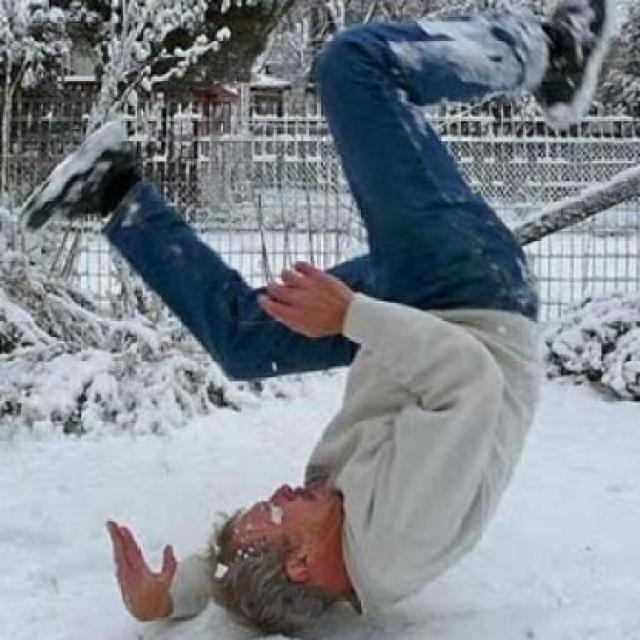fall: (12, 0, 600, 637)
